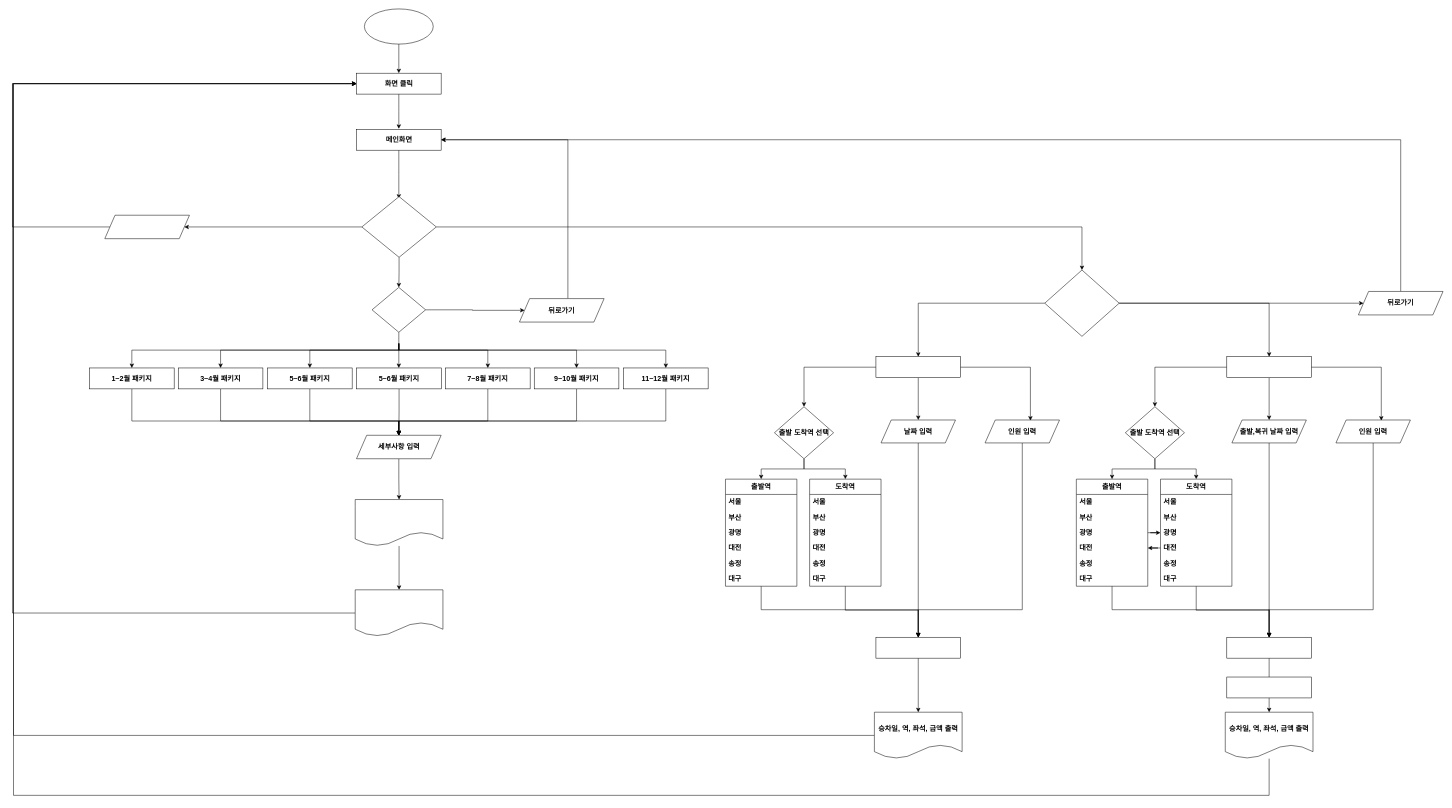
Some shapes in this 1452 by 808 pixel diagram are drawn without their labels. Each missing label, with the centre of its shape:
감사인사 출력: point (399, 612)
복귀 좌석 선택: point (1268, 687)
시작: point (398, 26)
예매자와 선택 패키지 출력: point (399, 522)
왕복: point (1268, 367)
좌석 선택: point (918, 647)
출발 좌석 선택: point (1268, 647)
취 소: point (146, 227)
패키지 선택: point (399, 309)
패키지, 예매, 취소 선택: point (398, 226)
편도: point (918, 367)
편도 왕복 선택: point (1081, 303)
